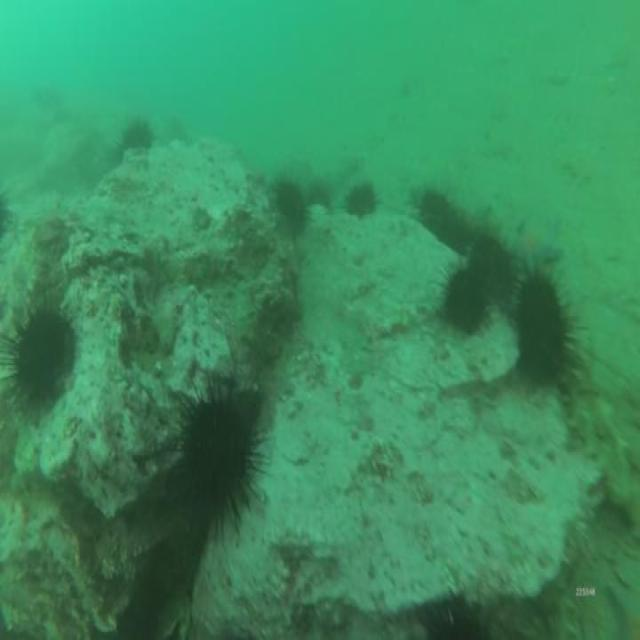echinus: (177, 401, 251, 523), (10, 310, 74, 404), (518, 267, 562, 386), (444, 266, 484, 330), (471, 232, 512, 292), (421, 191, 457, 239), (270, 179, 302, 226), (116, 122, 150, 147), (346, 184, 370, 216)
holothurian: (568, 373, 640, 526)
starfish: (517, 208, 561, 272)
